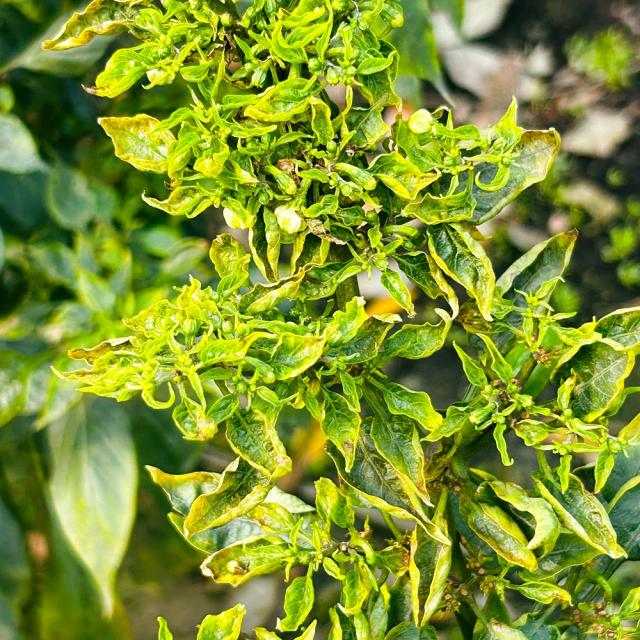Chilli_Leaf_Curl: (38, 0, 638, 638)
